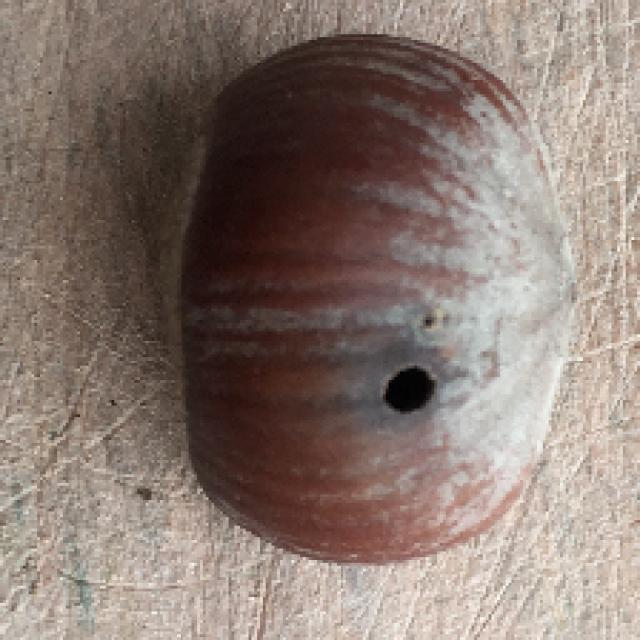DamagedHazelnut: (161, 37, 573, 556)
